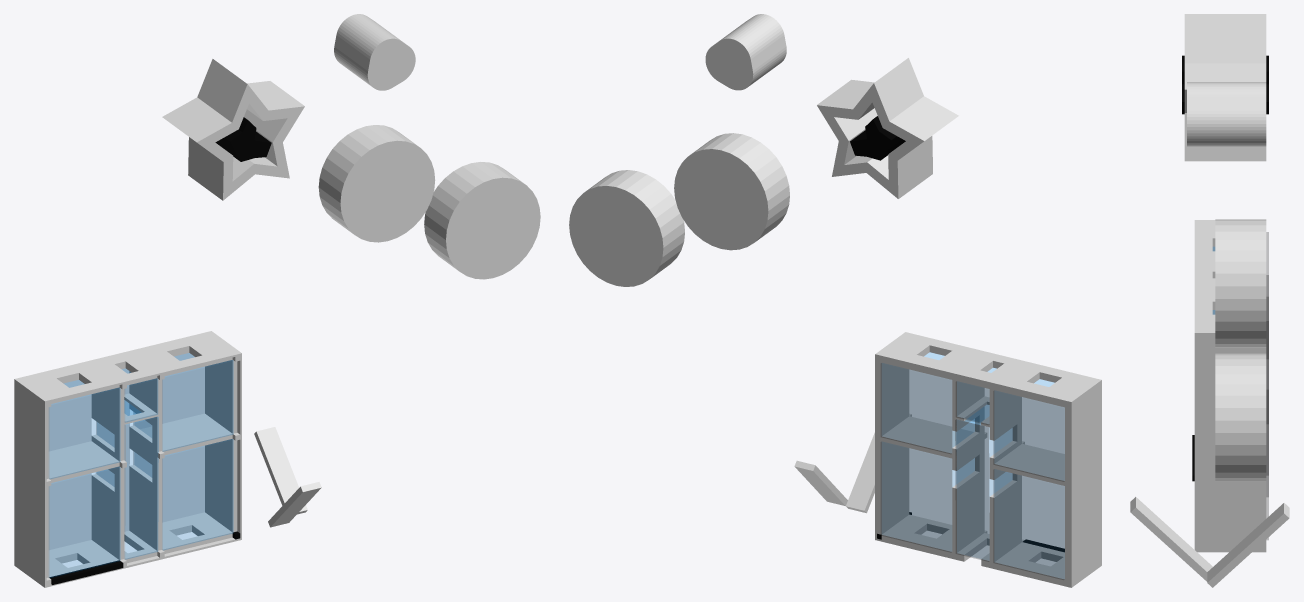
Rendered from 0Firstfloor.glb.
3 views of the same model, side by side, from view 1: azimuth 30°, elevation 25°; view 2: azimuth 150°, elevation 25°; view 3: azimuth 270°, elevation 25° (orthographic). The views are drawn at different scales.
Visible parts, largest first — view 1: IfcCovering_1, IfcProxy_circle_1, IfcProxy_circle_2, IfcProxy_star01_1, IfcSpace_Pardoseala_4, IfcSpace_Pardoseala_1, IfcSpace_Pardoseala_3, IfcSpace_Pardoseala_2, IfcSpace_Pardoseala_5, IfcProxy_test_1, IfcSlab_Pardoseala_4, IfcWall_Room_11 (+17 smaller); view 2: IfcCovering_1, IfcProxy_circle_1, IfcProxy_circle_2, IfcProxy_star01_1, IfcSlab_Pardoseala_1, IfcSlab_Pardoseala_4, IfcSpace_Pardoseala_4, IfcSpace_Pardoseala_1, IfcSlab_Pardoseala_2, IfcSlab_Pardoseala_3, IfcSpace_Pardoseala_3, IfcSpace_Pardoseala_2 (+18 smaller); view 3: IfcCovering_1, IfcProxy_star01_1, IfcProxy_circle_1, IfcProxy_circle_2, IfcProxy_test_1, IfcCovering_4, IfcCovering_3, IfcSlab_Pardoseala_3, IfcColumn_void_1, IfcSlab_Pardoseala_4, IfcSlab_Pardoseala_5.
Boxes of the visible parts, <box> form: IfcCovering_1: <box>14,331,241,587</box>; IfcProxy_circle_1: <box>318,125,435,242</box>; IfcProxy_circle_2: <box>424,162,540,279</box>; IfcProxy_star01_1: <box>162,59,304,200</box>; IfcSpace_Pardoseala_4: <box>135,439,233,549</box>; IfcSpace_Pardoseala_1: <box>49,467,120,577</box>; IfcSpace_Pardoseala_3: <box>135,353,233,451</box>; IfcSpace_Pardoseala_2: <box>49,380,120,478</box>; IfcSpace_Pardoseala_5: <box>97,401,158,559</box>; IfcProxy_test_1: <box>334,14,415,90</box>; IfcSlab_Pardoseala_4: <box>133,446,204,521</box>; IfcWall_Room_11: <box>129,437,161,550</box>; IfcCovering_1: <box>875,332,1101,587</box>; IfcProxy_circle_1: <box>674,133,789,250</box>; IfcProxy_circle_2: <box>569,170,684,286</box>; IfcProxy_star01_1: <box>817,58,958,198</box>; IfcSlab_Pardoseala_1: <box>993,469,1064,579</box>; IfcSlab_Pardoseala_4: <box>881,442,951,552</box>; IfcSpace_Pardoseala_4: <box>882,442,956,550</box>; IfcSpace_Pardoseala_1: <box>995,469,1064,578</box>; IfcSlab_Pardoseala_2: <box>993,390,1064,481</box>; IfcSlab_Pardoseala_3: <box>881,363,951,453</box>; IfcSpace_Pardoseala_3: <box>882,352,974,452</box>; IfcSpace_Pardoseala_2: <box>995,379,1064,480</box>; IfcCovering_1: <box>1194,220,1266,552</box>; IfcProxy_star01_1: <box>1184,14,1266,161</box>; IfcProxy_circle_1: <box>1215,219,1266,347</box>; IfcProxy_circle_2: <box>1215,353,1266,481</box>; IfcProxy_test_1: <box>1187,82,1266,146</box>; IfcCovering_4: <box>1207,503,1289,587</box>; IfcCovering_3: <box>1130,497,1212,581</box>; IfcSlab_Pardoseala_3: <box>1266,297,1268,423</box>; IfcColumn_void_1: <box>1182,55,1268,114</box>; IfcSlab_Pardoseala_4: <box>1266,390,1268,539</box>; IfcSlab_Pardoseala_5: <box>1267,336,1268,496</box>.
Bounding box in the file's own units: 26.74 × 23.7 × 6.21.
